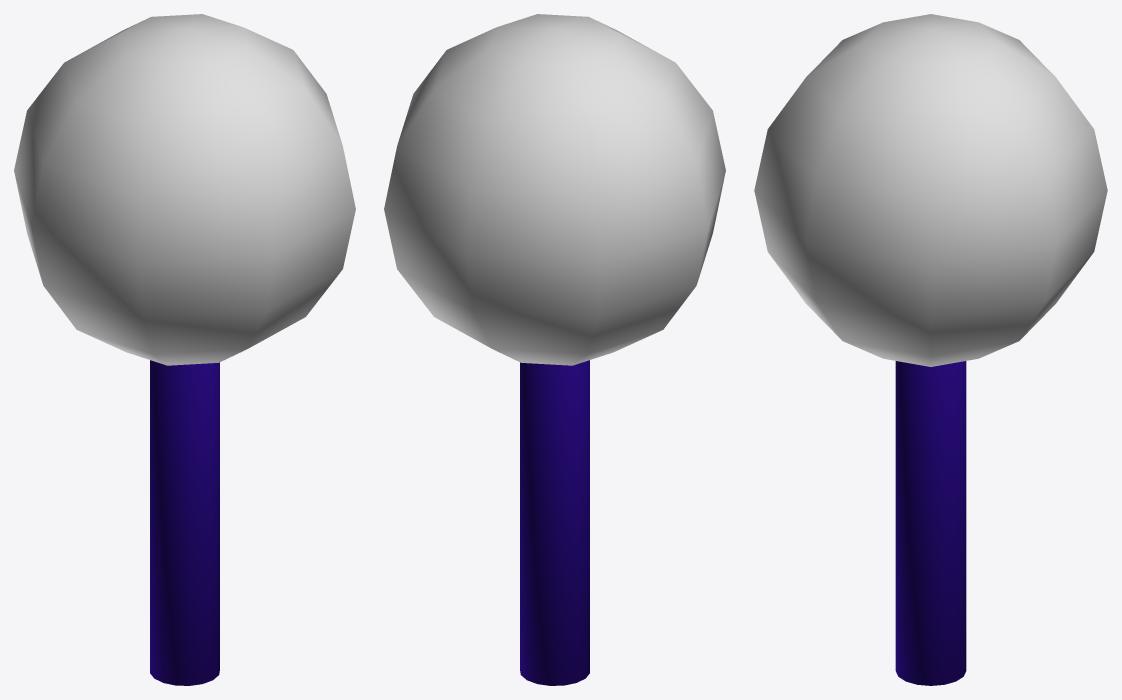
File: flower.glb
3 views of the same model, side by side, from view 1: azimuth 30°, elevation 25°; view 2: azimuth 150°, elevation 25°; view 3: azimuth 270°, elevation 25° (orthographic).
Parts seen in each view (by area): view 1: Blossom, Stem; view 2: Blossom, Stem; view 3: Blossom, Stem.
Boxes of the visible parts, left/top/right/bottom form: Blossom: left=14, top=14, right=355, bottom=365; Stem: left=150, top=360, right=219, bottom=685; Blossom: left=384, top=14, right=725, bottom=365; Stem: left=520, top=360, right=589, bottom=685; Blossom: left=754, top=14, right=1107, bottom=366; Stem: left=895, top=361, right=966, bottom=685.
Bounding box in the file's own units: 1 × 2 × 1.
